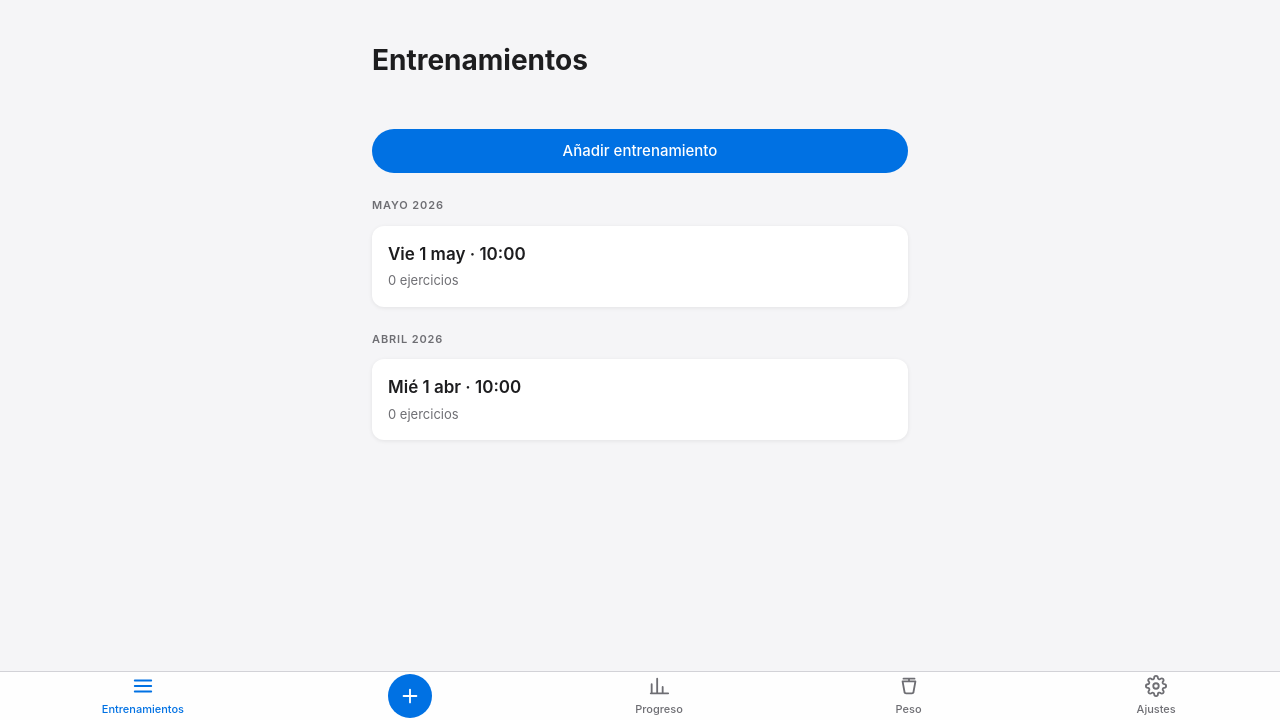
Test: Feed reloads after mutations (T047) › after deleting the session from detail, the feed reflects the updated state
Note: Click on the first card to navigate to the detail screen.
Click the link "Vie 1 may · 10:00 0 ejercicios" at (640, 266), box [372,226,908,307]
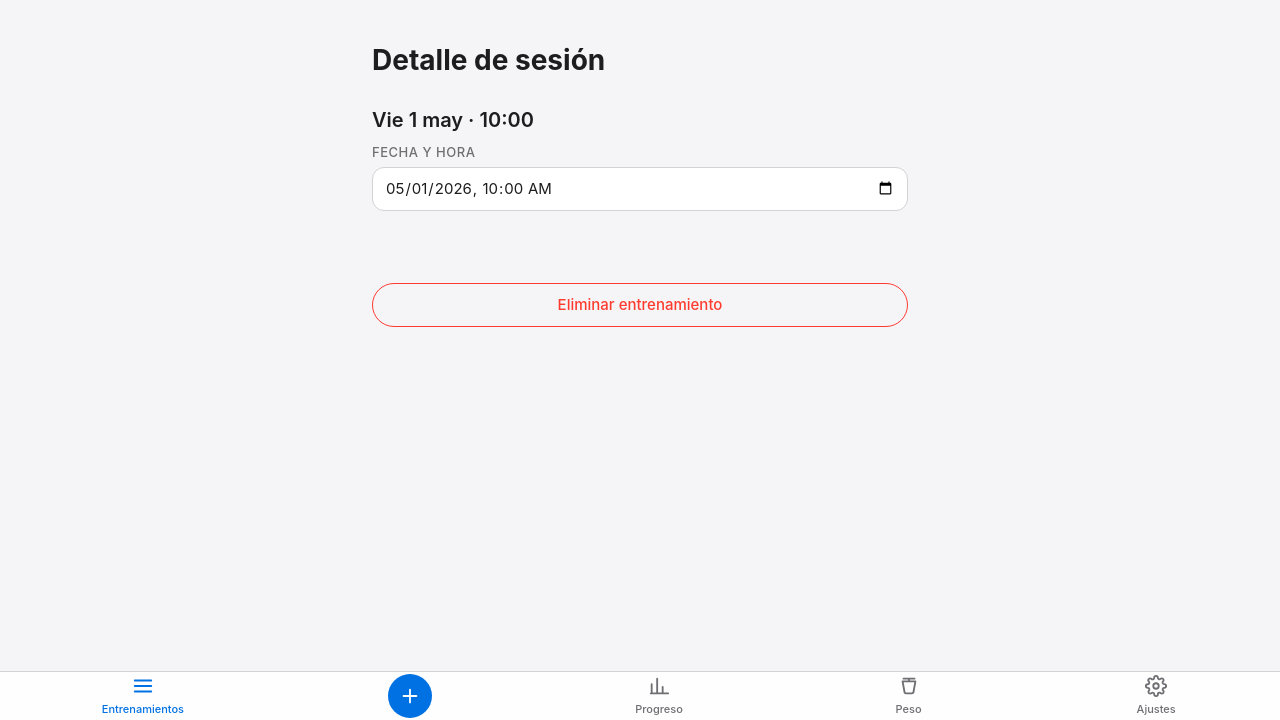
Now the heading "Detalle de sesión" is shown, box [372,43,605,77]
Note: Delete the session.
Click the button "Eliminar entrenamiento" at (640, 305), box [372,283,908,327]
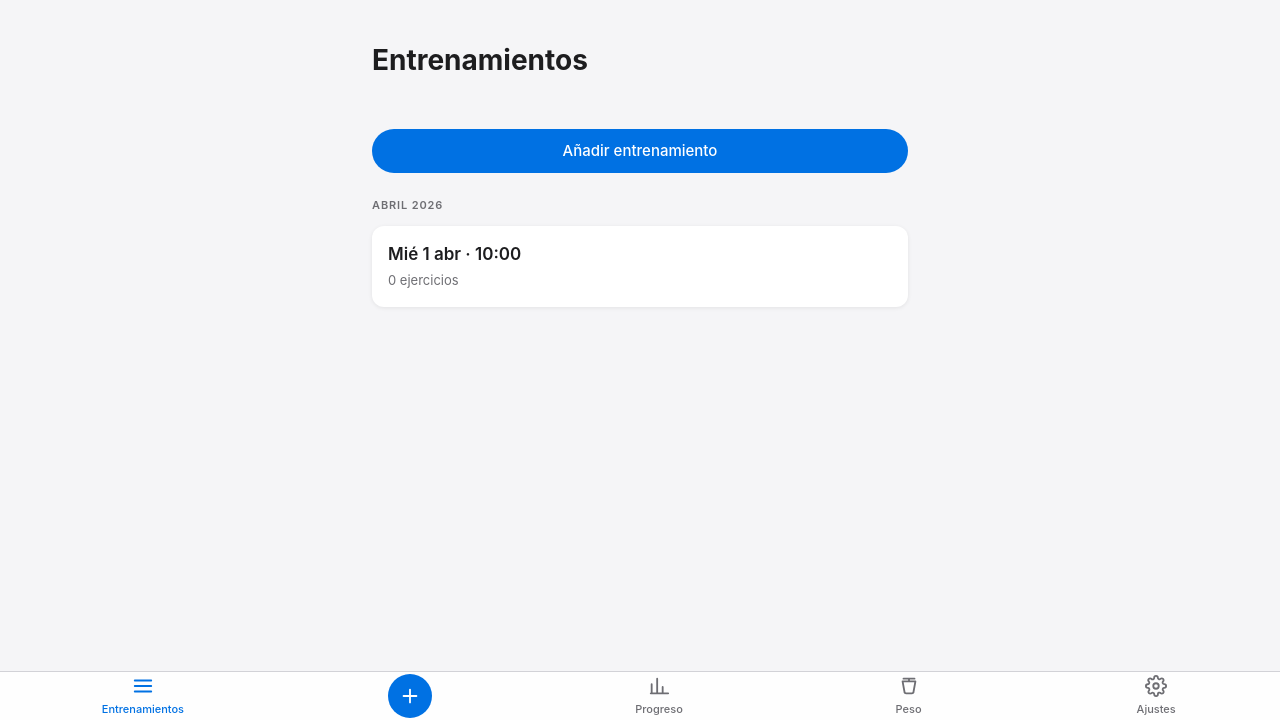
Expected: the heading "Mayo 2026" is not shown
Now the heading "Abril 2026" is shown, box [372,198,443,212]
